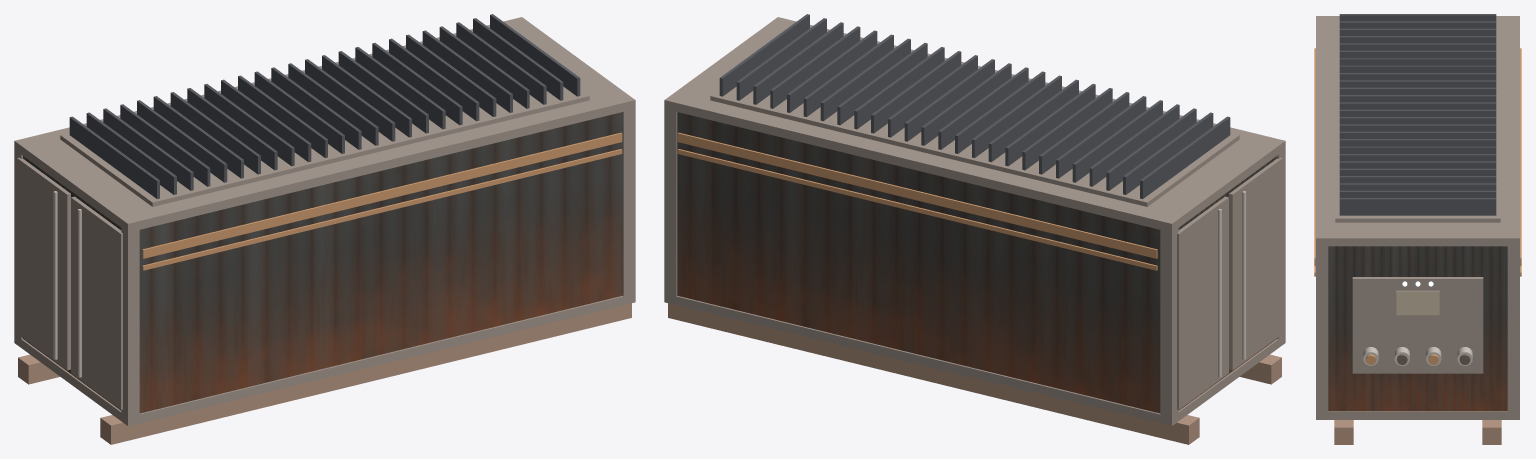
File: E03_battery_bank.glb
The picture shows the model from 3 angles, left to right: view 1: azimuth 30°, elevation 25°; view 2: azimuth 150°, elevation 25°; view 3: azimuth 270°, elevation 25°; orthographic projection. The views are drawn at different scales.
Visible parts, largest first — view 1: container, radiator_fin (×26), frame_rail (×2), door (×2), skid (×2), accent_stripe (×2), corner_post (×3), radiator_base, lock_rod (×2); view 2: container, radiator_fin (×26), frame_rail (×2), door (×2), skid (×2), accent_stripe (×2), corner_post (×3), radiator_base, lock_rod (×2); view 3: radiator_fin (×26), container, frame_rail (×2), connector_panel, corner_post (×2), radiator_base, status_display, skid (×2), accent_stripe (×2).
Boxes of the visible parts, x1,y1,x2,y2 form: container: (23,18,622,413); radiator_fin (×26): (69,14,580,198); frame_rail (×2): (14,17,635,425); door (×2): (17,157,122,409); skid (×2): (18,303,631,444); accent_stripe (×2): (142,132,622,270); corner_post (×3): (14,98,635,425); radiator_base: (60,86,589,206); lock_rod (×2): (53,191,81,377); container: (677,18,1276,413); radiator_fin (×26): (719,14,1230,198); frame_rail (×2): (664,17,1285,425); door (×2): (1177,157,1282,409); skid (×2): (668,303,1281,444); accent_stripe (×2): (677,132,1157,270); corner_post (×3): (664,98,1285,425); radiator_base: (710,86,1239,206); lock_rod (×2): (1218,191,1246,377); radiator_fin (×26): (1339,14,1496,215); container: (1317,16,1518,411); frame_rail (×2): (1316,16,1519,419); connector_panel: (1352,277,1483,373); corner_post (×2): (1316,234,1519,419); radiator_base: (1335,27,1500,222); status_display: (1396,290,1439,315); skid (×2): (1334,420,1501,444); accent_stripe (×2): (1314,48,1521,265).
Size of the model in its own units: 6.32 by 2.84 by 2.38.
Materials: 9 (1 with a texture image).
